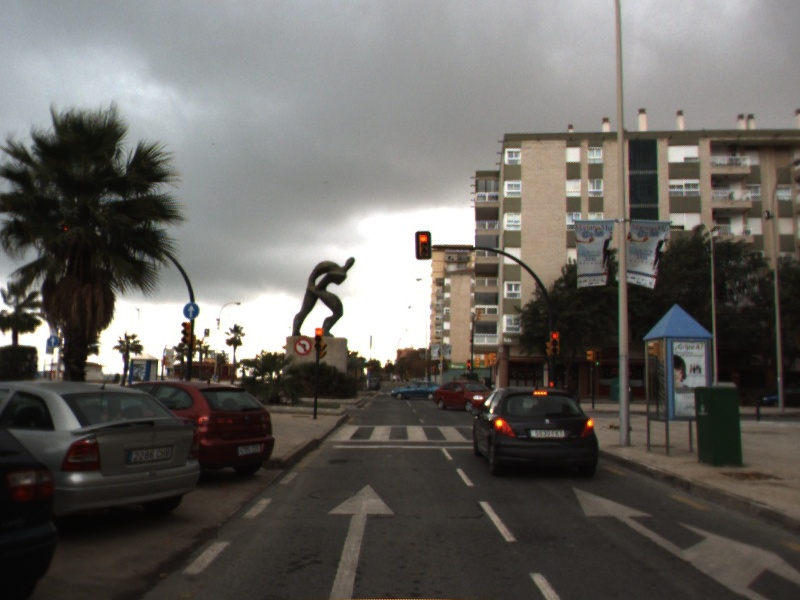STRAIGHT: (326, 482, 397, 600)
STRAIGHT_RIGHT: (571, 484, 800, 600)
